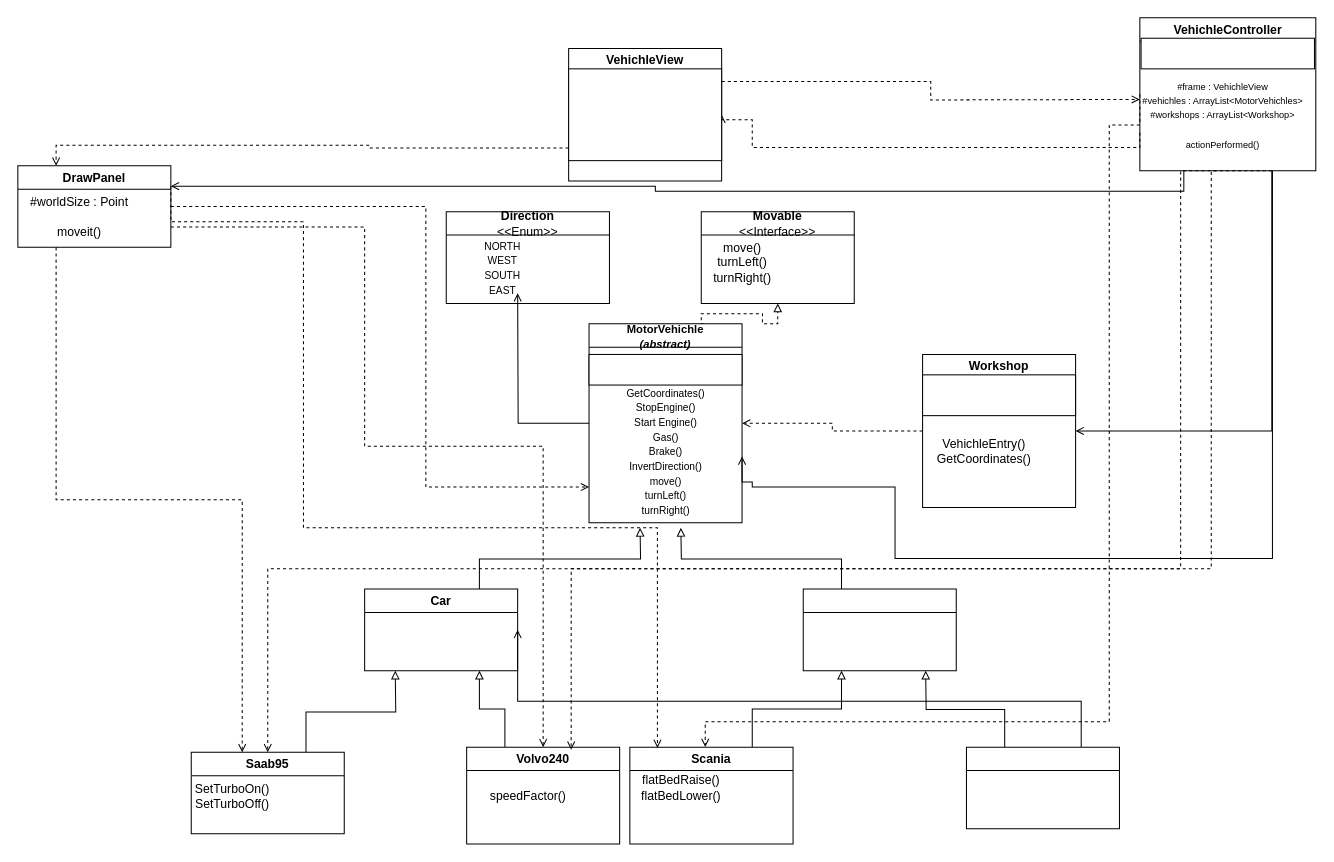
The diagram is 1334 pixels wide and 862 high, and some of its shapes have lost their labels. The centre of each missing label's shape, as x and y in pixels:
"#vehichleController : VehichleColtroller #drawPanel : DrawPanel #x : int #y: int" goes at (645,114).
"#vehichlesInRepair : List<T extends MotorVehichle> #xAndY : Point2D.Double" goes at (999,395).
"CarTransporter" goes at (1042,787).
"TimerListener" goes at (1227,53).
"Truck" goes at (879,629).
"xAndY direction" goes at (665,369).
